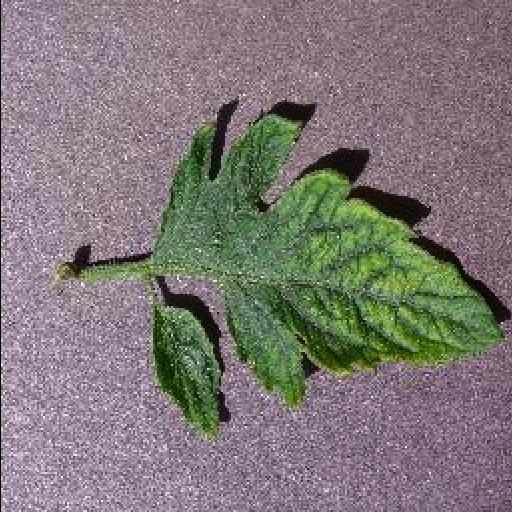Mosaic Virus: (150, 110, 506, 434)
